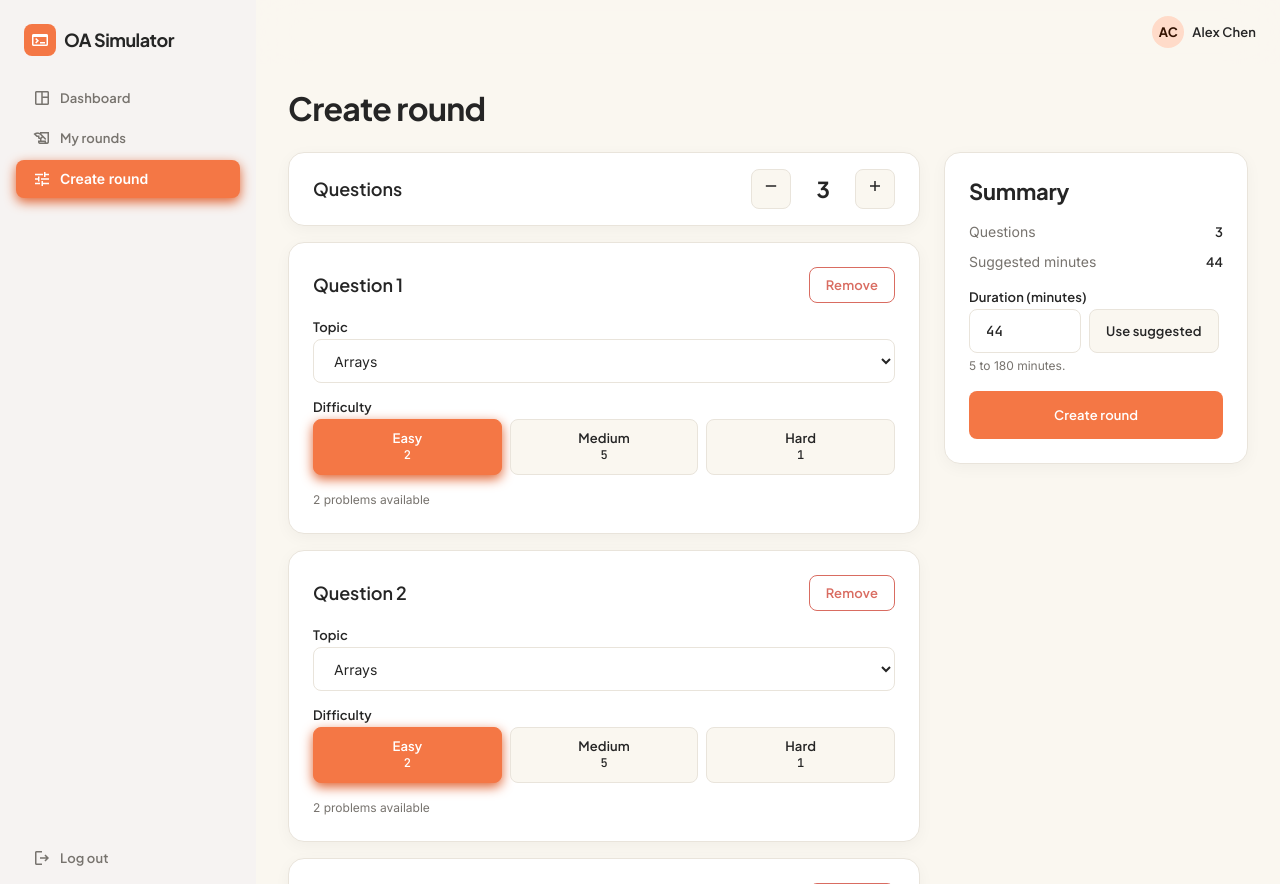
Test: S5 question count › + adds a question up to 5, and − removes the last one down to 1
Expected: the element "Question 1" is shown, [288, 242, 920, 534]
Click the button named "More questions" at (875, 189), box [855, 169, 895, 209]
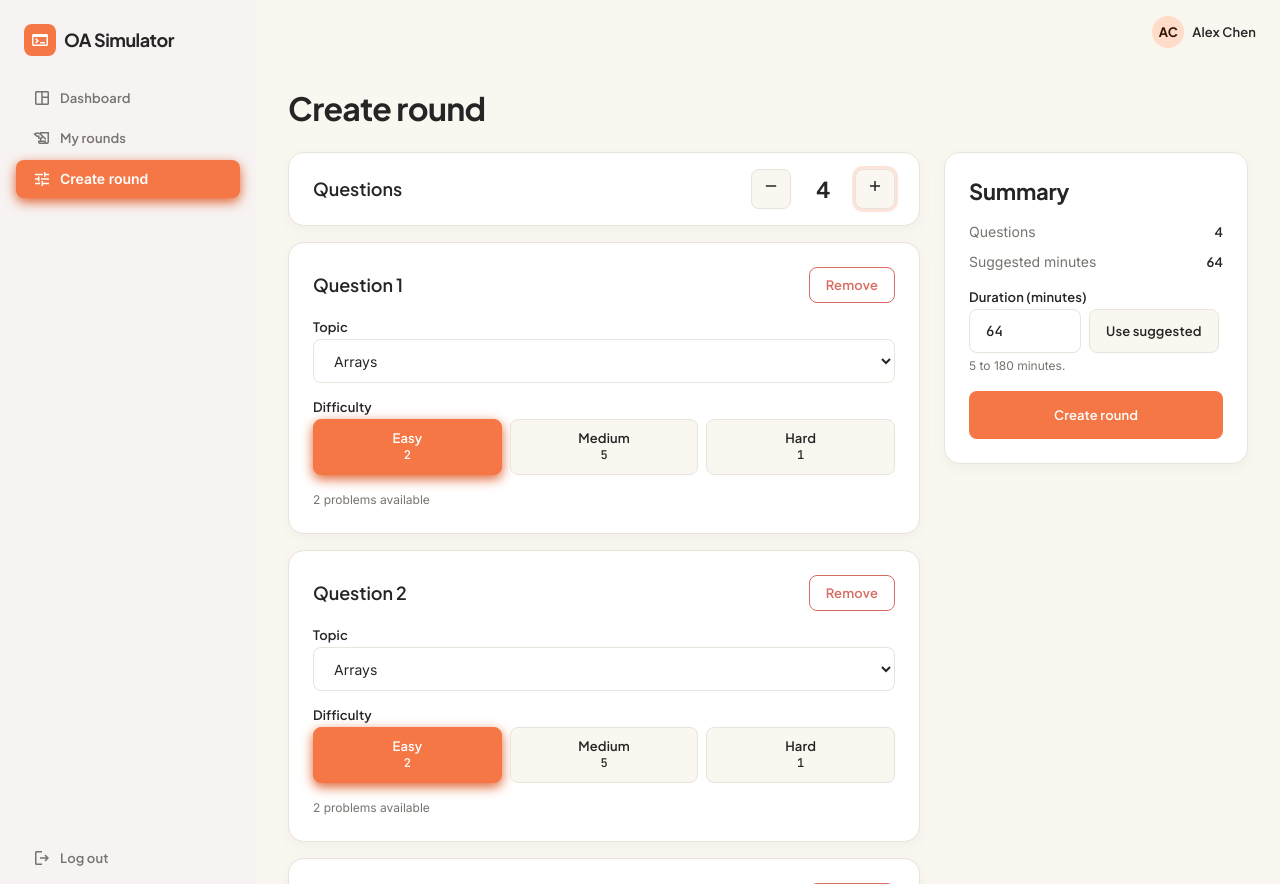
Click the button named "More questions" at (875, 189), box [855, 169, 895, 209]
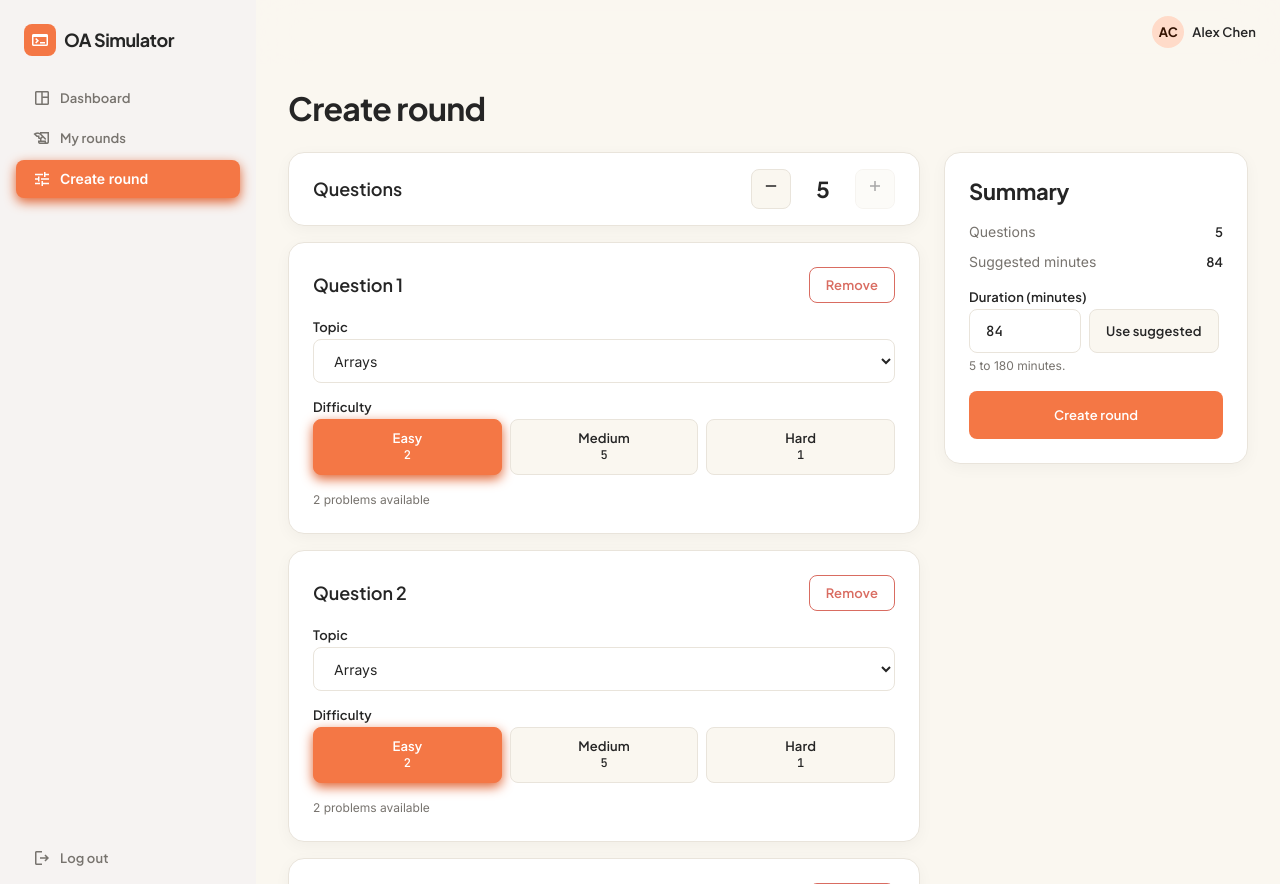
Expected: the button named "More questions" is disabled, [855, 169, 895, 209]
Click the button named "Fewer questions" at (771, 189), box [751, 169, 791, 209]
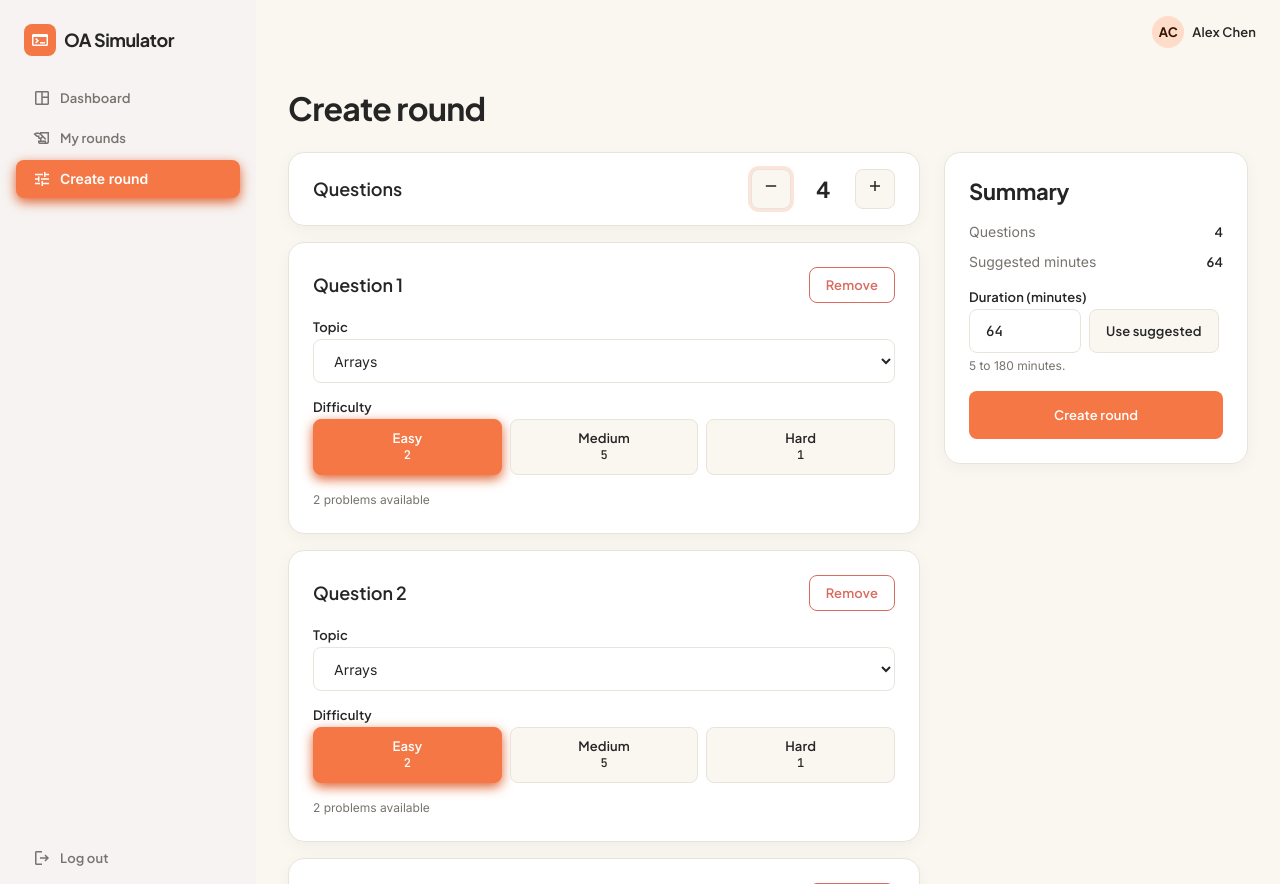
Click the button named "Fewer questions" at (771, 189), box [751, 169, 791, 209]
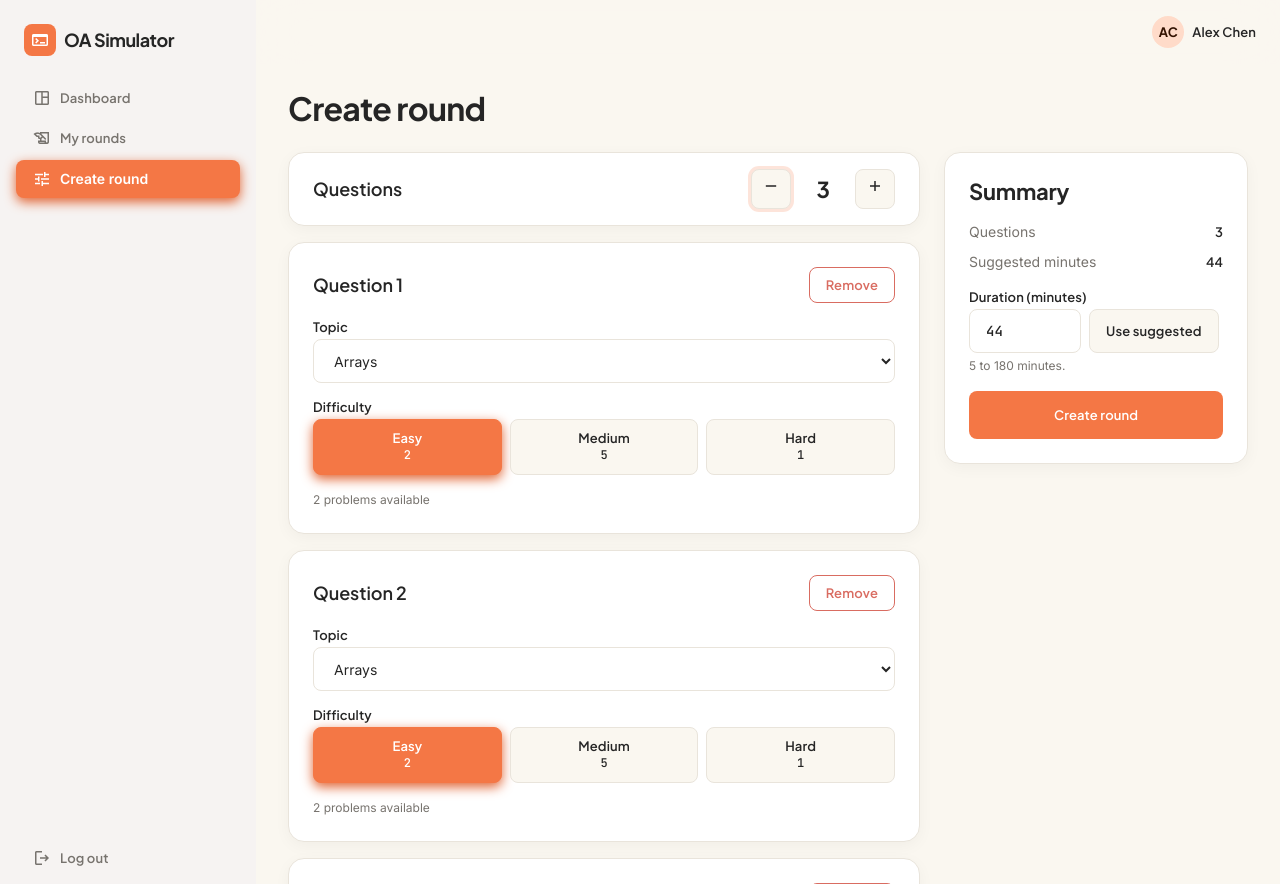
Click the button named "Fewer questions" at (771, 189), box [751, 169, 791, 209]
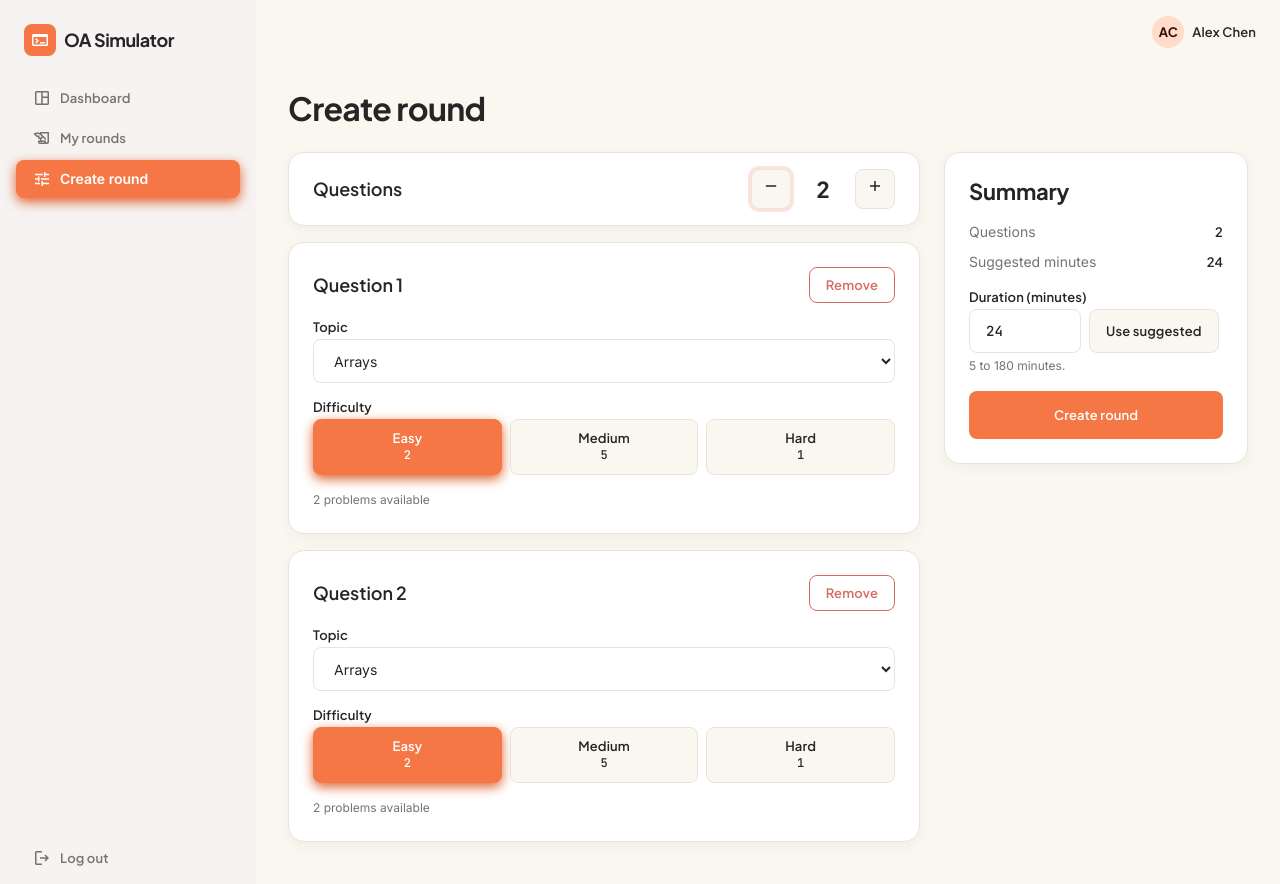
Click the button named "Fewer questions" at (771, 189), box [751, 169, 791, 209]
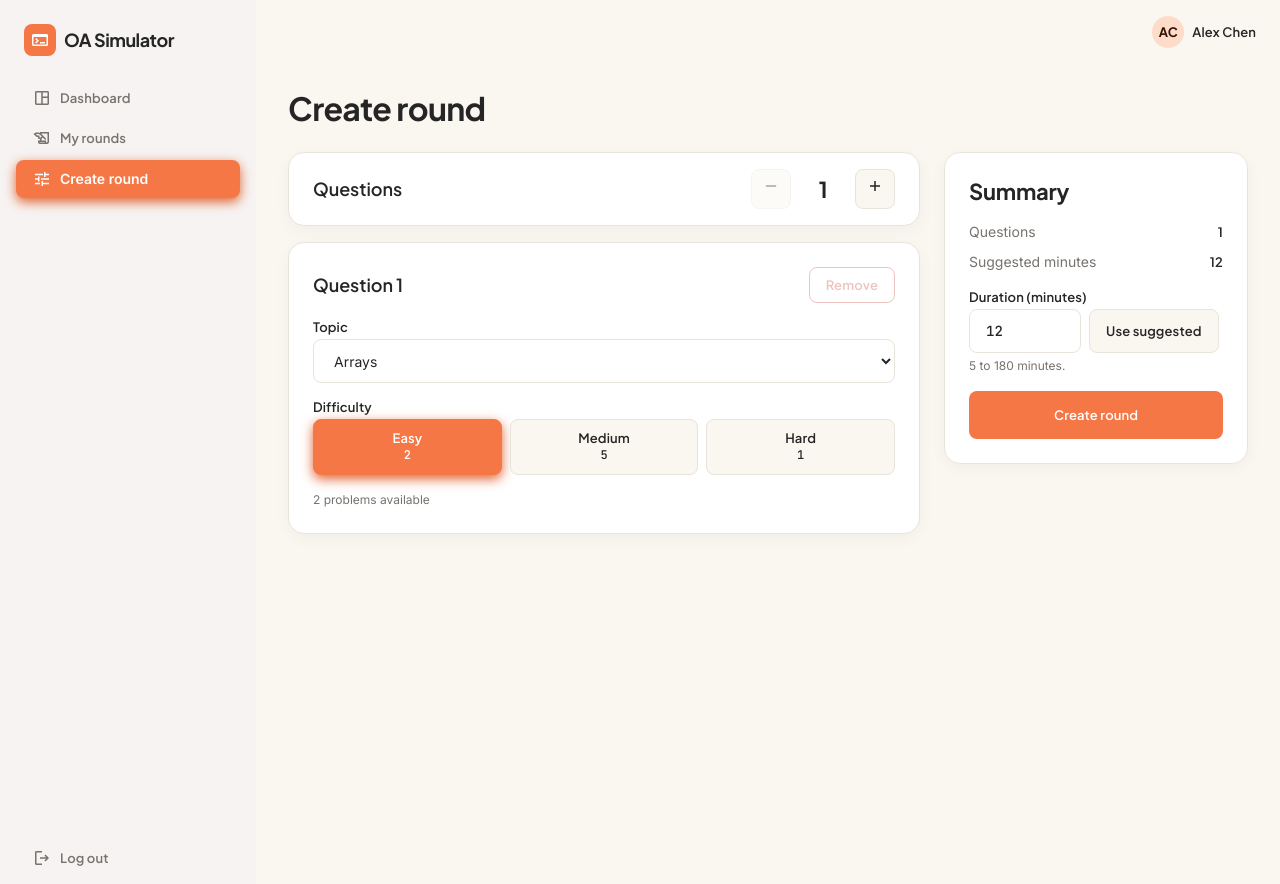
Expected: the number of elements "Question 1" is 1, [288, 242, 920, 534]
Expected: the text with test id "question-count" reads "1", [819, 175, 827, 203]
